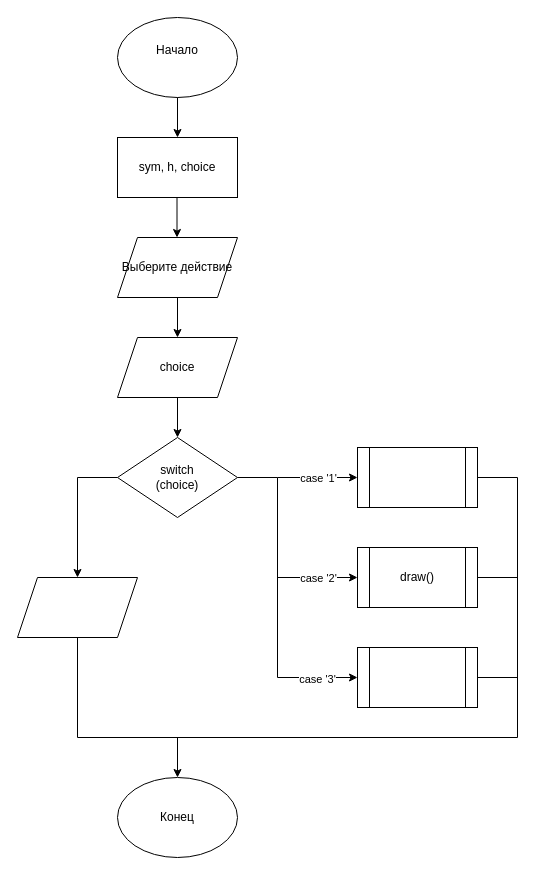
This 536x875 diagram has some shape labels left out. The centre of each missing label's shape, as x and y in pixels:
"area_triangle()" belongs at point (417, 477).
"definition()" belongs at point (417, 677).
"Введено неверное действие!" belongs at point (77, 607).
